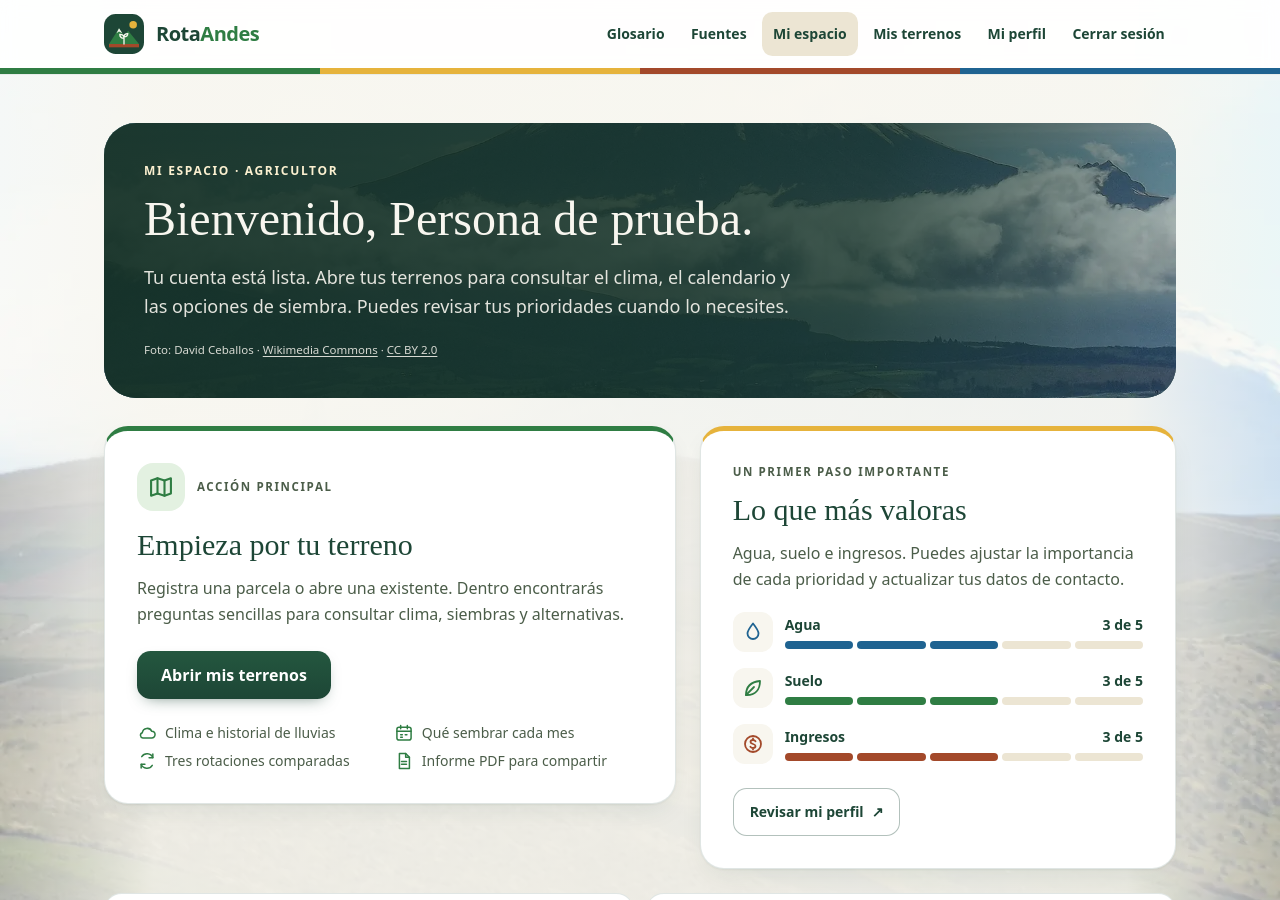
Test: Sesión y pantallas › elimina sesión y caché al cerrar y protege nuevamente el perfil
Expected: the heading "Bienvenido, Persona de prueba." is shown, [144, 195, 816, 243]
Click the button "Cerrar sesión".
click(1119, 34)  # box [1061, 12, 1176, 56]
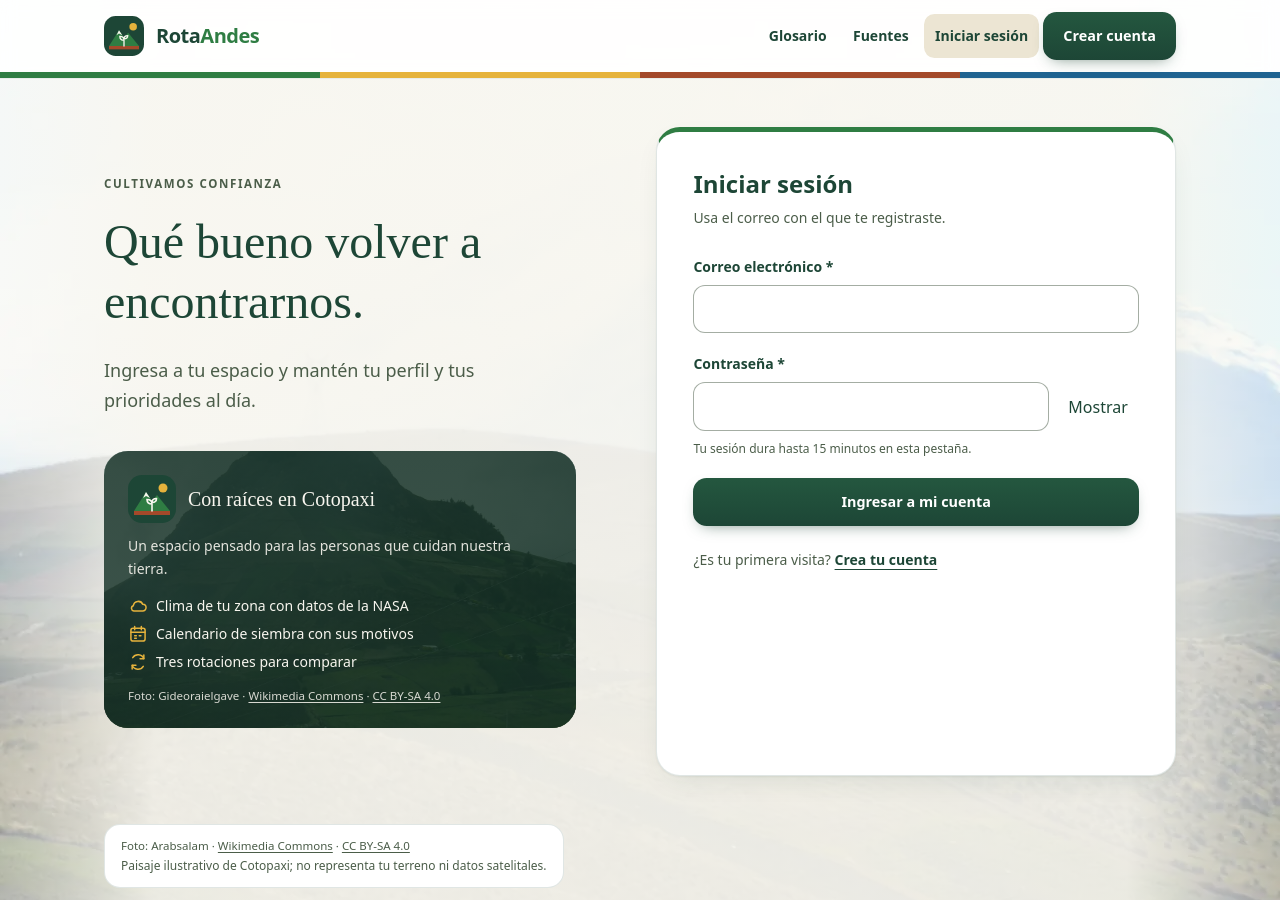
Now the heading "Iniciar sesión" is shown, box [693, 167, 853, 200]
